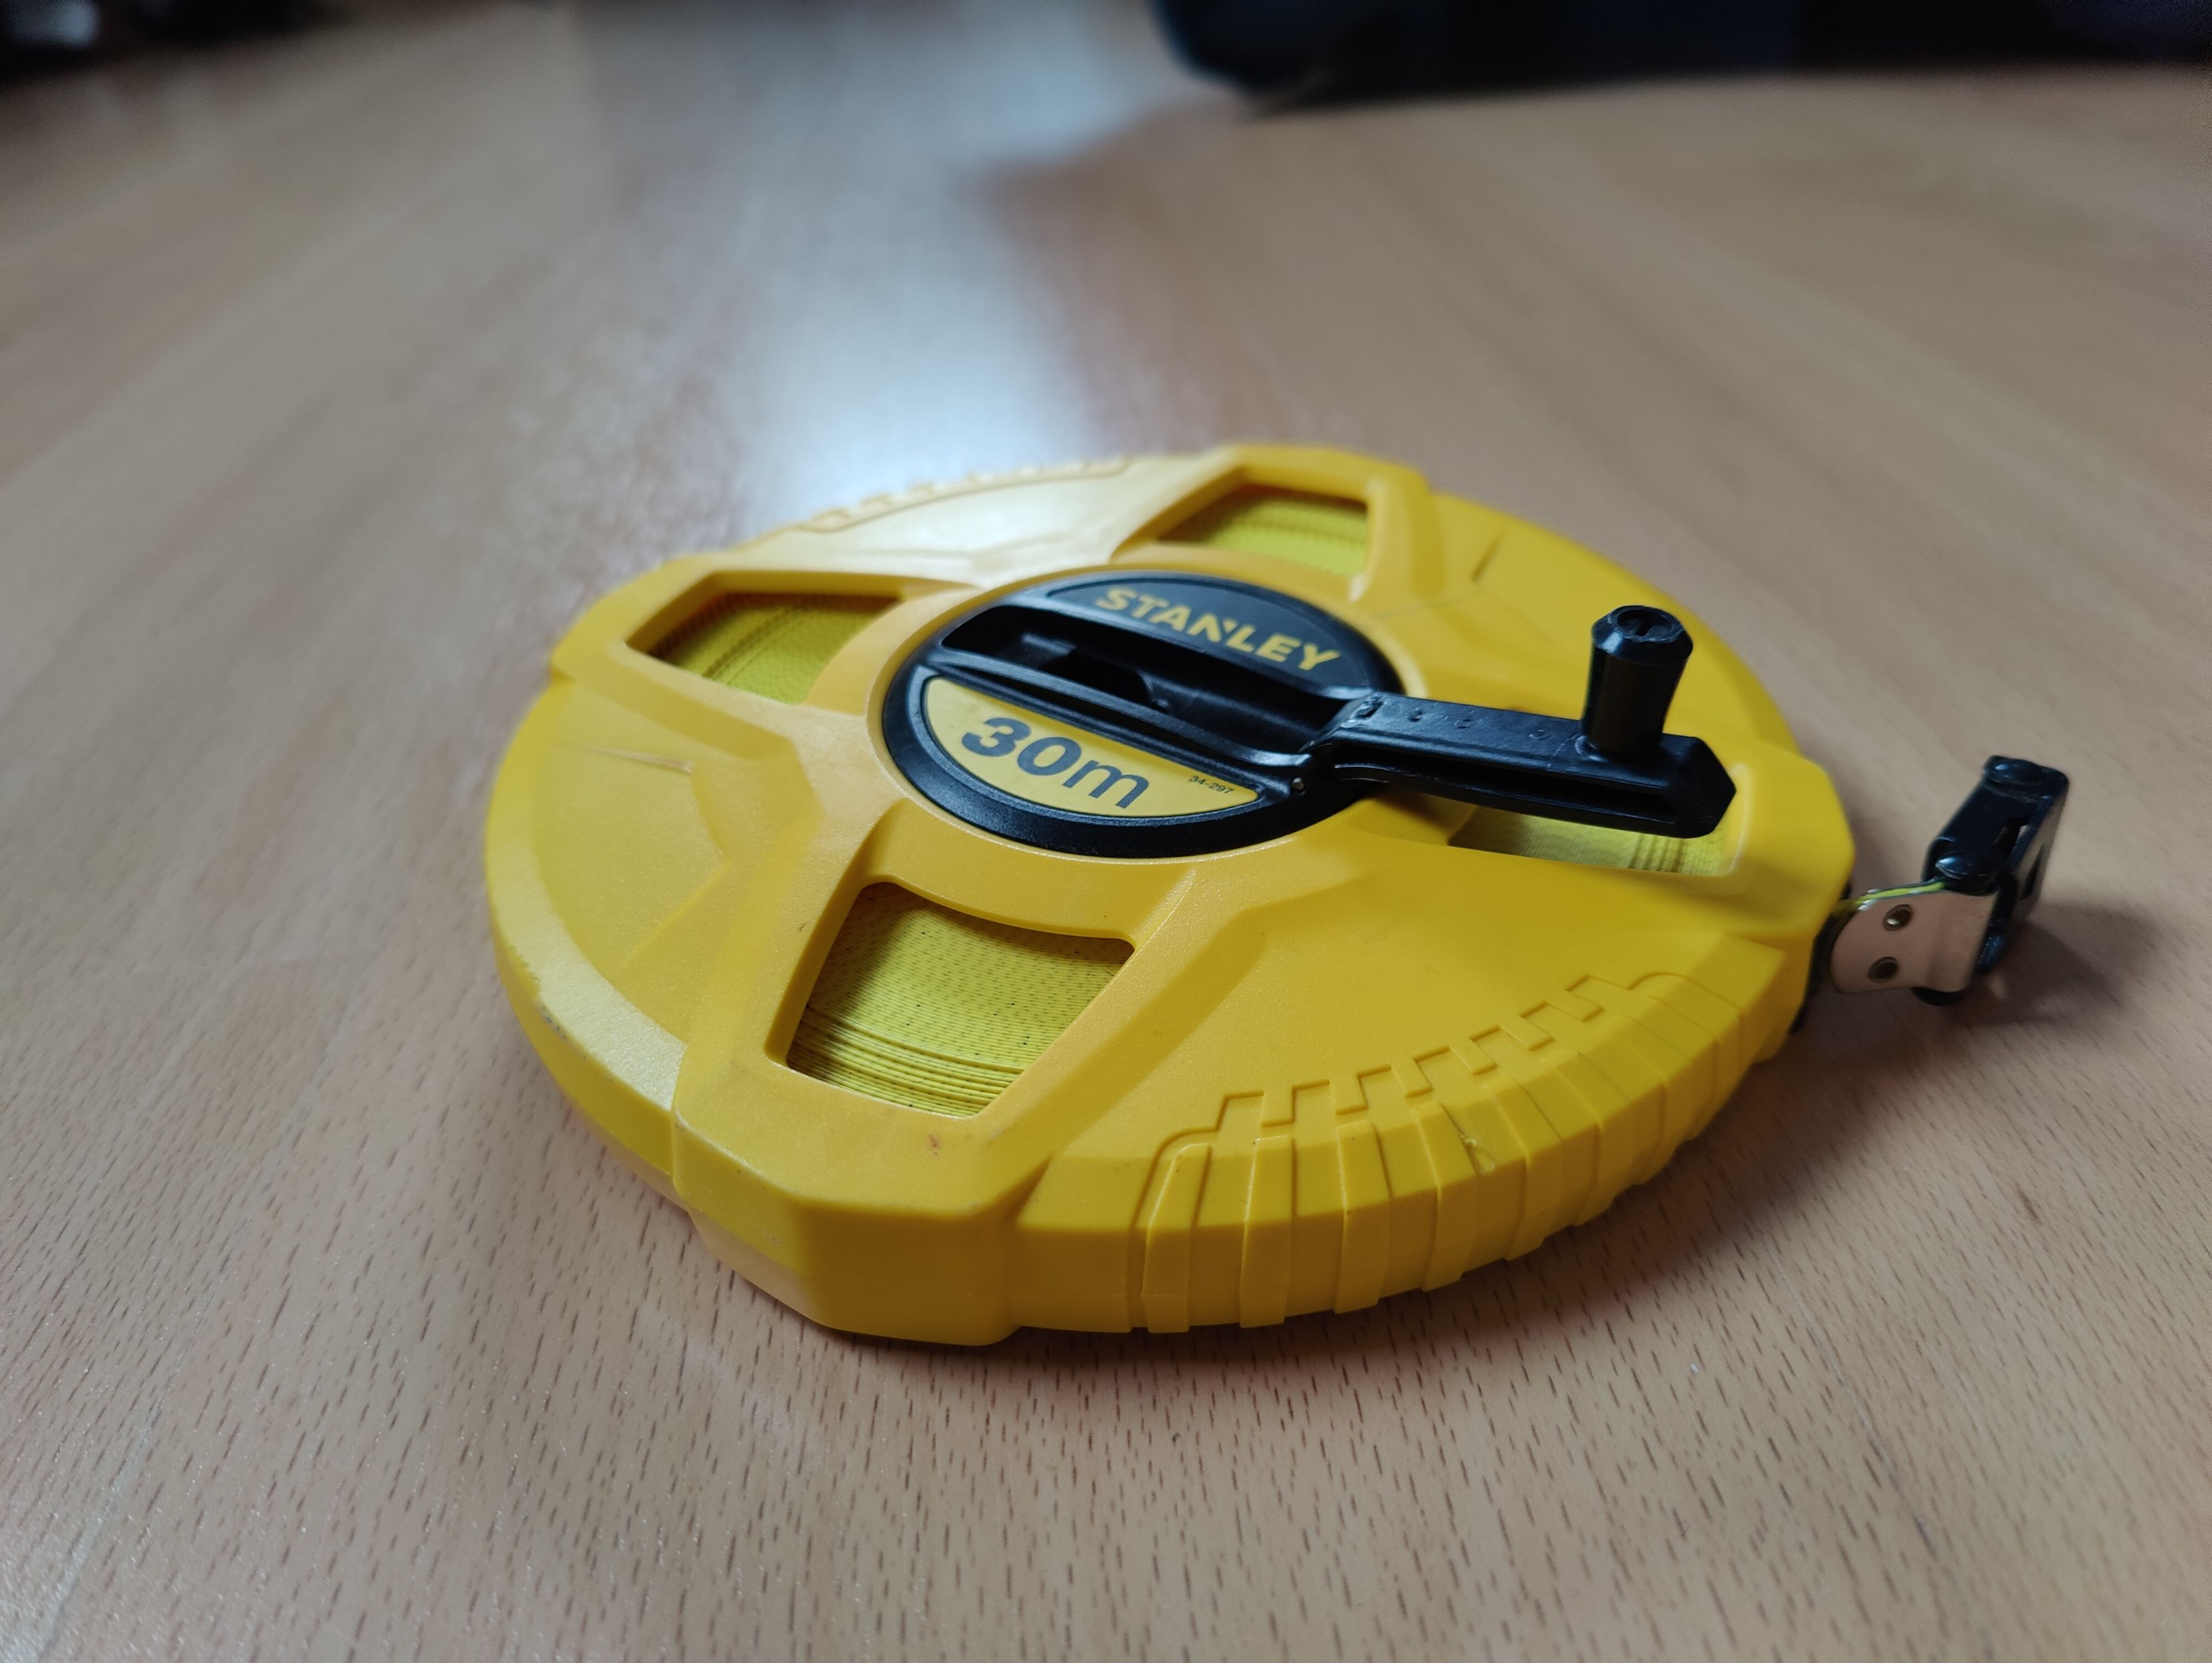tapemeasure: (486, 423, 2081, 1326)
